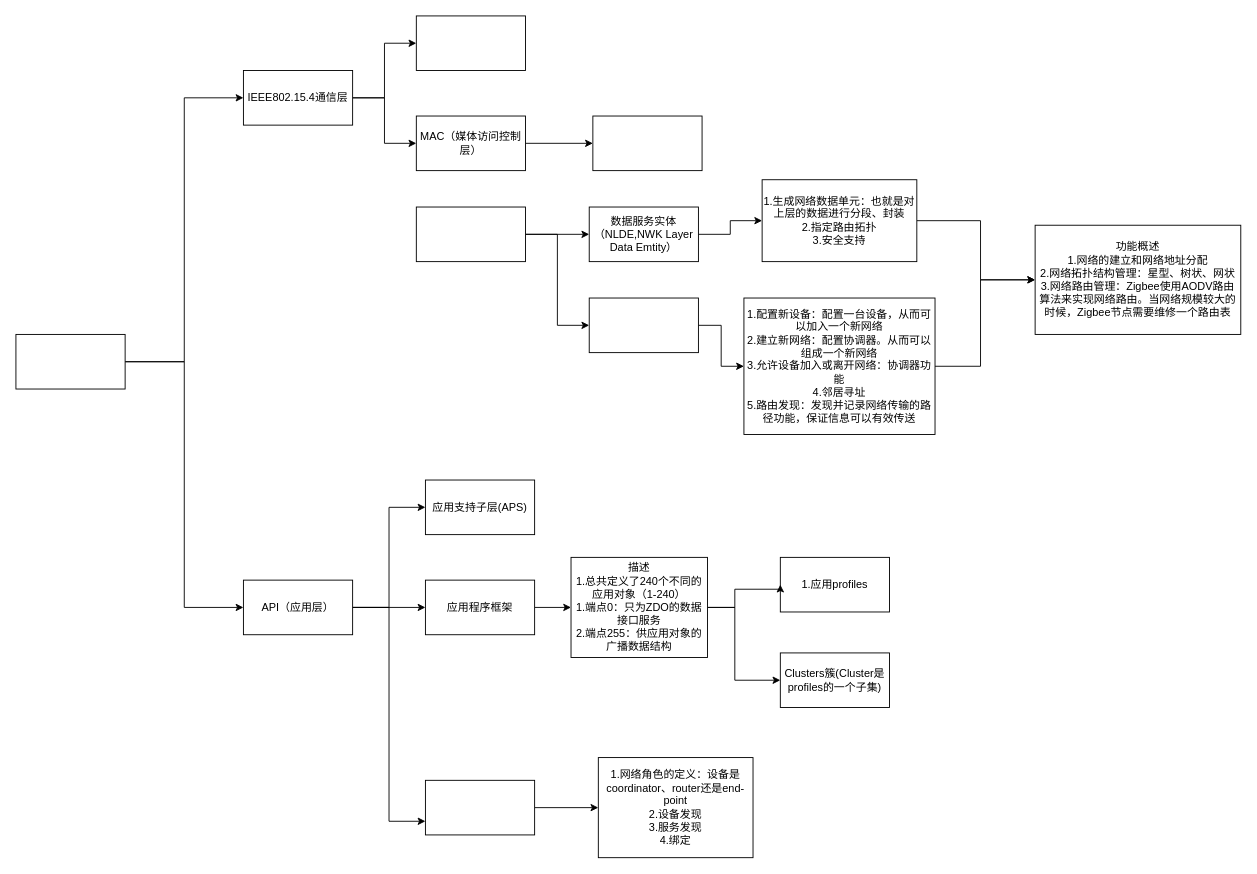
The diagram is 1257 pixels wide and 874 high, and some of its shapes have lost their labels. The centre of each missing label's shape, as x and y in pixels:
"1.信标帧 2.数据帧 3.应答帧 4.命令帧" goes at (x=647, y=143).
"NWK（网络层）" goes at (x=470, y=234).
"PHY(物理层)" goes at (x=470, y=43).
"ZDO（特制断点号为0的zigbee设备对象）" goes at (x=480, y=807).
"Zigbee协议栈" goes at (x=70, y=361).
"管理服务实体(MLME,NWK Layer Management Enitity)" goes at (x=643, y=325).
